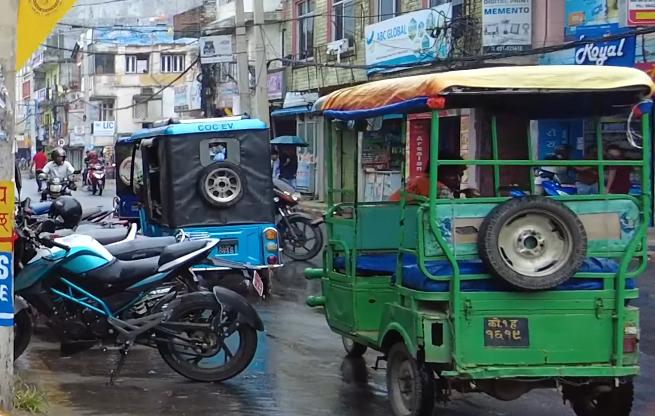bike: (7, 224, 259, 388), (36, 169, 82, 199)
e-rickshaw: (303, 61, 652, 416), (103, 107, 292, 300)
scooter: (83, 164, 107, 195)
